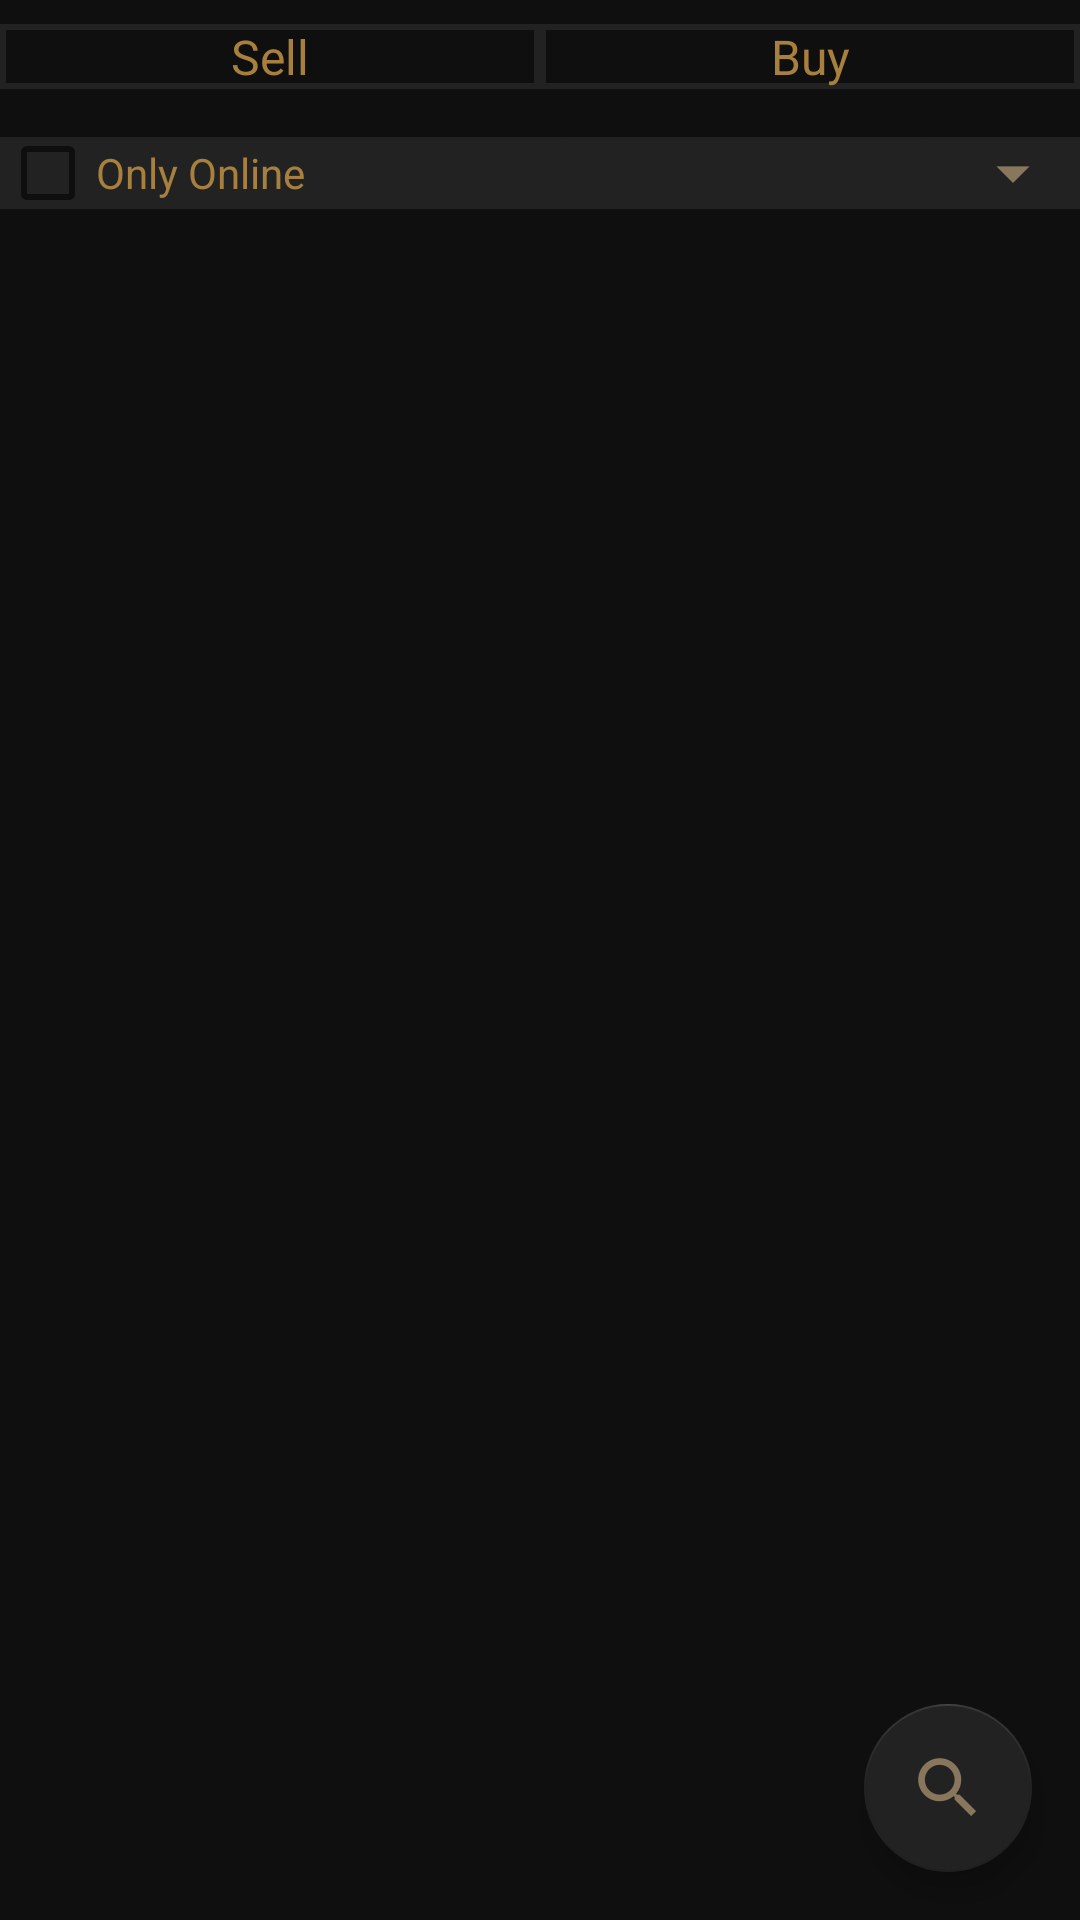

Icon bounding boxes for this 1080x1920 phone screenshot, format (x1, y1, x2, y2):
Icon for League Spinner: (996, 166, 1030, 183)
search: (864, 1704, 1032, 1872)
